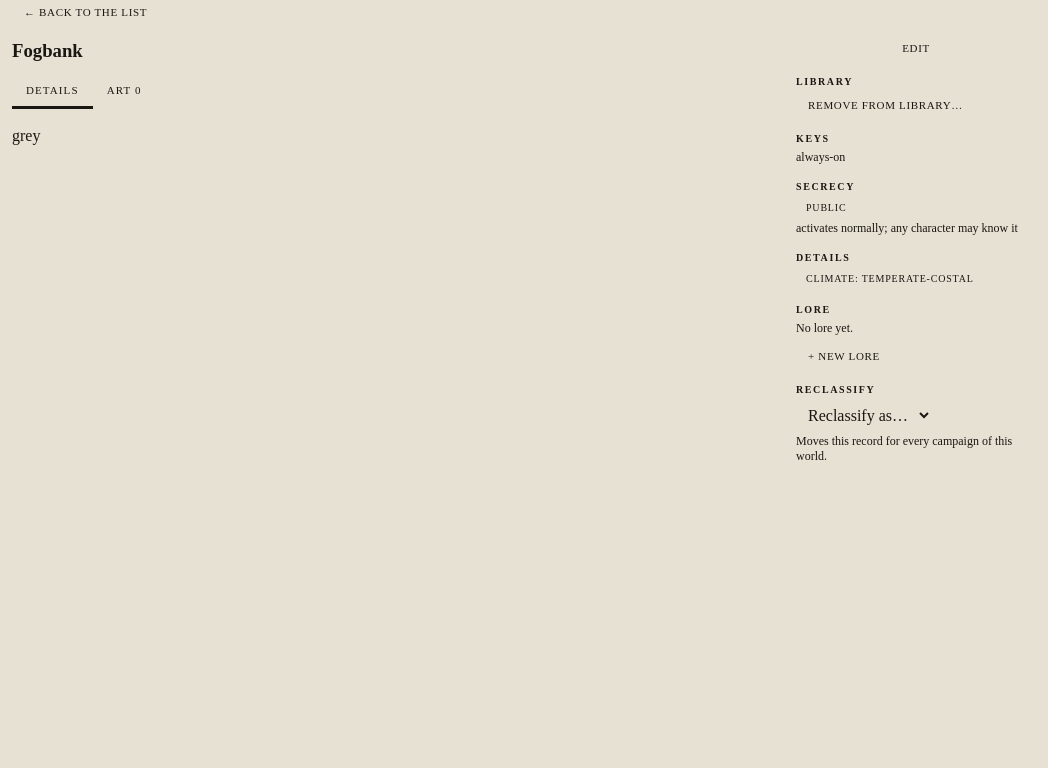
it: a stored choice value outside the options is shown, not blanked
Click the button "Edit".
click(916, 48)  # box [796,36,1036,60]
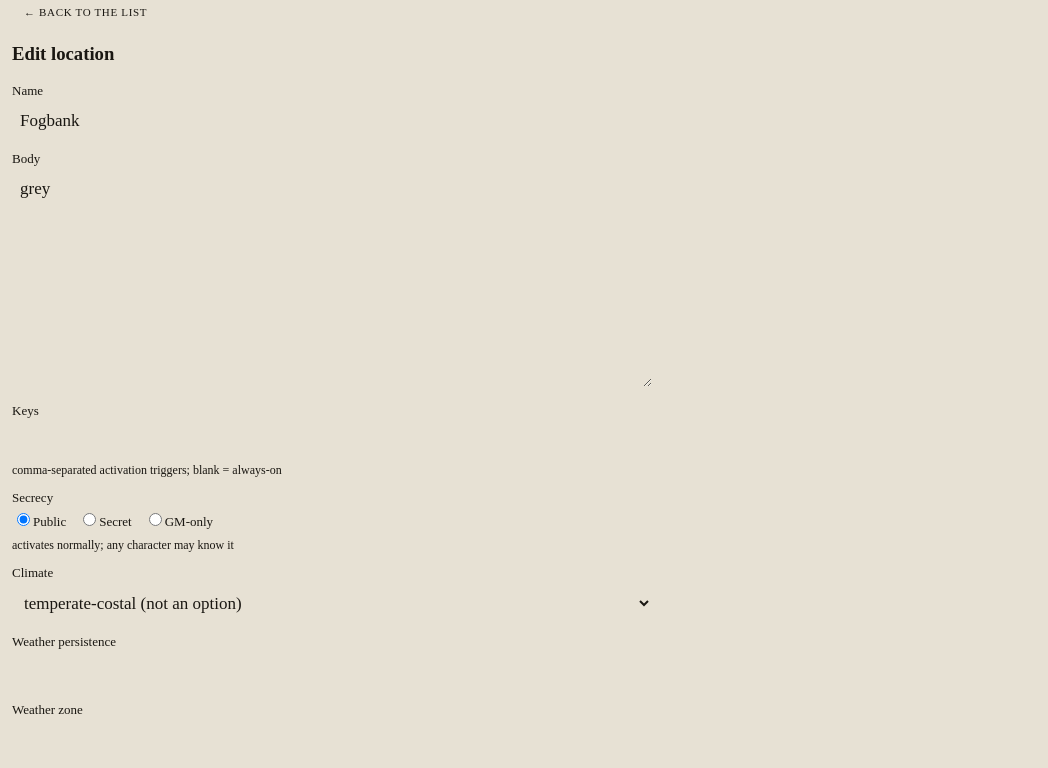
Expected: the dropdown labelled "Climate" shows "temperate-costal (not an option)", [12,585,652,622]
